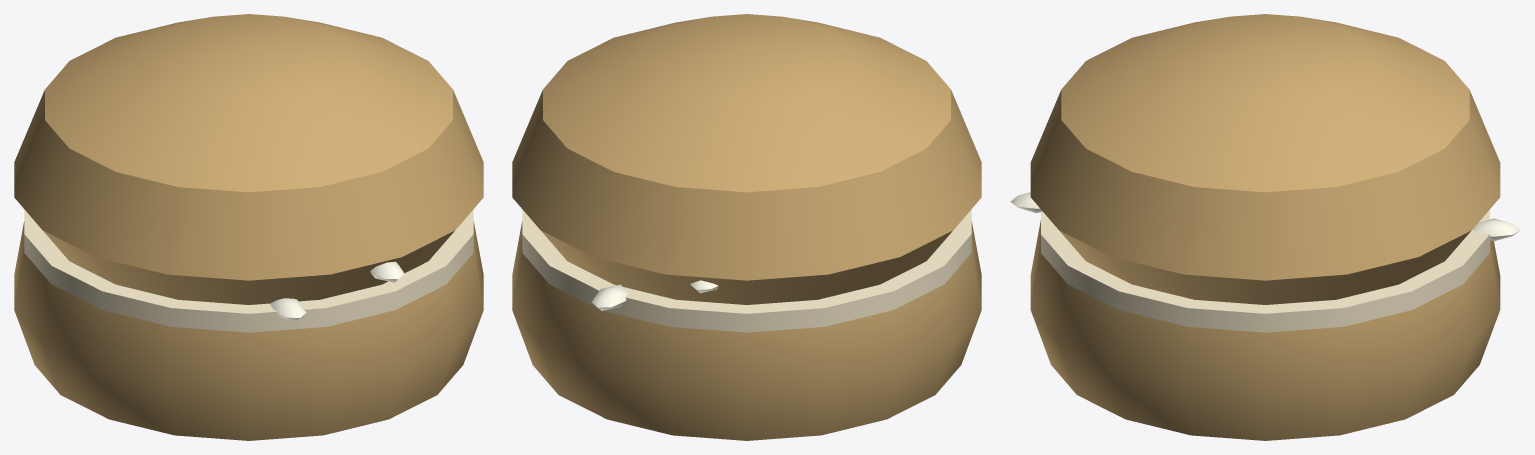
File: kr_bun.glb
The picture shows the model from 3 angles, left to right: view 1: azimuth 30°, elevation 25°; view 2: azimuth 150°, elevation 25°; view 3: azimuth 270°, elevation 25°; orthographic projection.
Parts seen in each view (by area): view 1: vc_m0_r4, vc_m0_r8, vc_m0_r6; view 2: vc_m0_r4, vc_m0_r8, vc_m0_r6; view 3: vc_m0_r4, vc_m0_r8, vc_m0_r6.
Part boxes in pixels (<box>): vc_m0_r4: <box>14,14,483,440</box>; vc_m0_r8: <box>24,209,473,332</box>; vc_m0_r6: <box>270,252,436,321</box>; vc_m0_r4: <box>512,14,981,440</box>; vc_m0_r8: <box>522,209,971,332</box>; vc_m0_r6: <box>592,280,718,310</box>; vc_m0_r4: <box>1030,14,1500,440</box>; vc_m0_r8: <box>1041,209,1489,332</box>; vc_m0_r6: <box>1010,192,1520,268</box>.
Bounding box in the file's own units: 0.23 × 0.16 × 0.2462.
